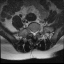CCS_normal: (33, 29, 35, 37)
LFS_normal: (36, 28, 38, 35)
LLS_normal: (35, 29, 37, 36)
RFS_normal: (30, 28, 32, 35)
RLS_normal: (32, 29, 33, 37)
